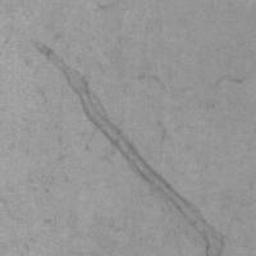Water spot: (33, 40, 228, 256)
